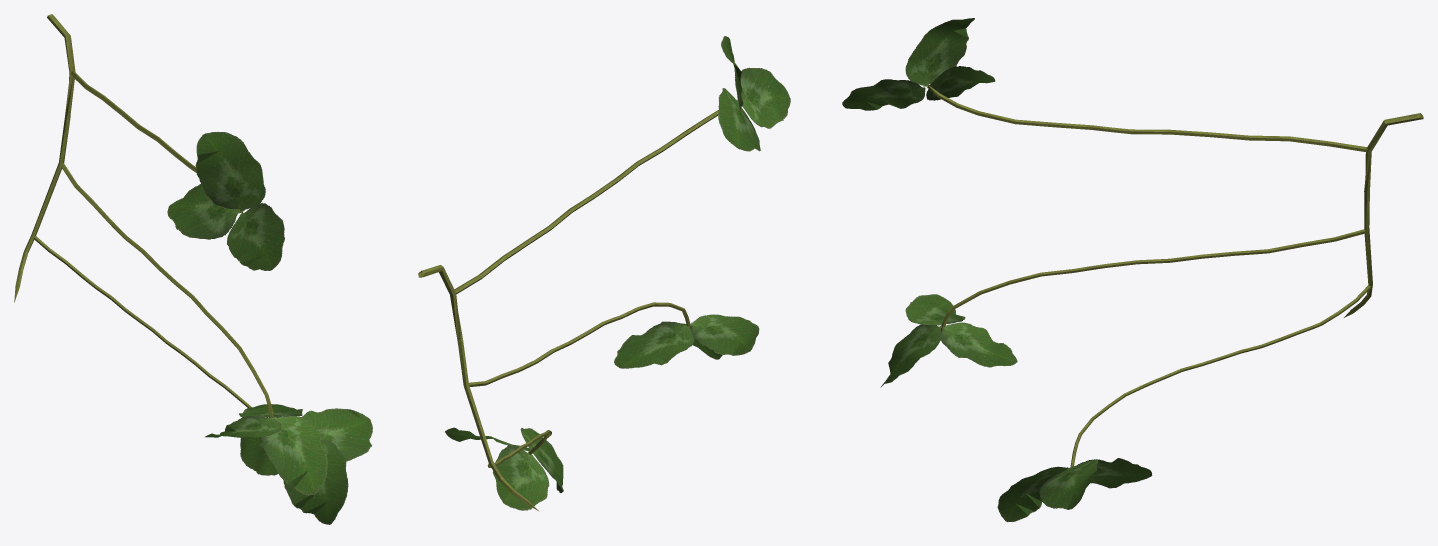
The picture shows the model from 3 angles, left to right: view 1: azimuth 30°, elevation 25°; view 2: azimuth 150°, elevation 25°; view 3: azimuth 270°, elevation 25°; orthographic projection. The views are drawn at different scales.
Parts seen in each view (by area): view 1: GC18_3; view 2: GC18_3; view 3: GC18_3.
Part boxes in pixels (x1,y1,x2,y2): GC18_3: (14,14,372,524); GC18_3: (418,36,790,511); GC18_3: (842,18,1423,522).
Bounding box in the file's own units: 1.09 × 1.79 × 2.07.
2 materials, 2 textured.
